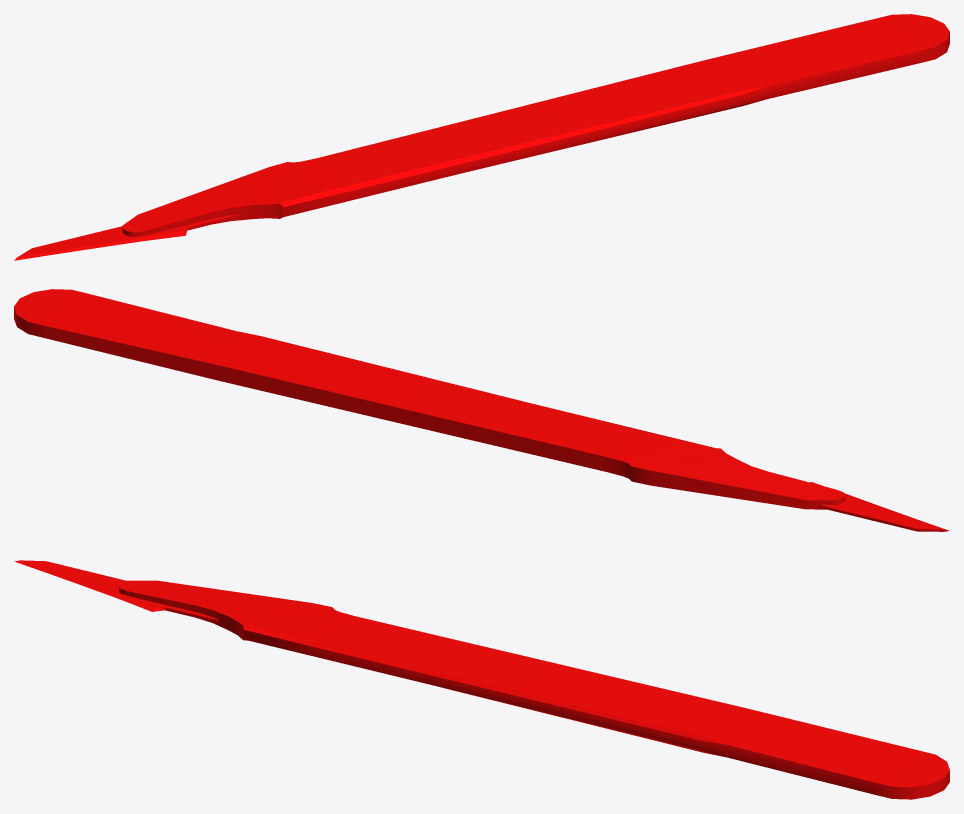
The model's file is scapel.FBX.
3 views of the same model, one above another, from view 1: azimuth 30°, elevation 25°; view 2: azimuth 150°, elevation 25°; view 3: azimuth 330°, elevation 25° (orthographic).
Parts seen in each view (by area): view 1: scalpel; view 2: scalpel; view 3: scalpel.
Boxes of the visible parts, x1,y1,x2,y2 form: scalpel: (14,14,949,260); scalpel: (14,289,949,531); scalpel: (14,560,949,799).
Bounding box in the file's own units: 4.57 × 0.0728 × 0.374.
